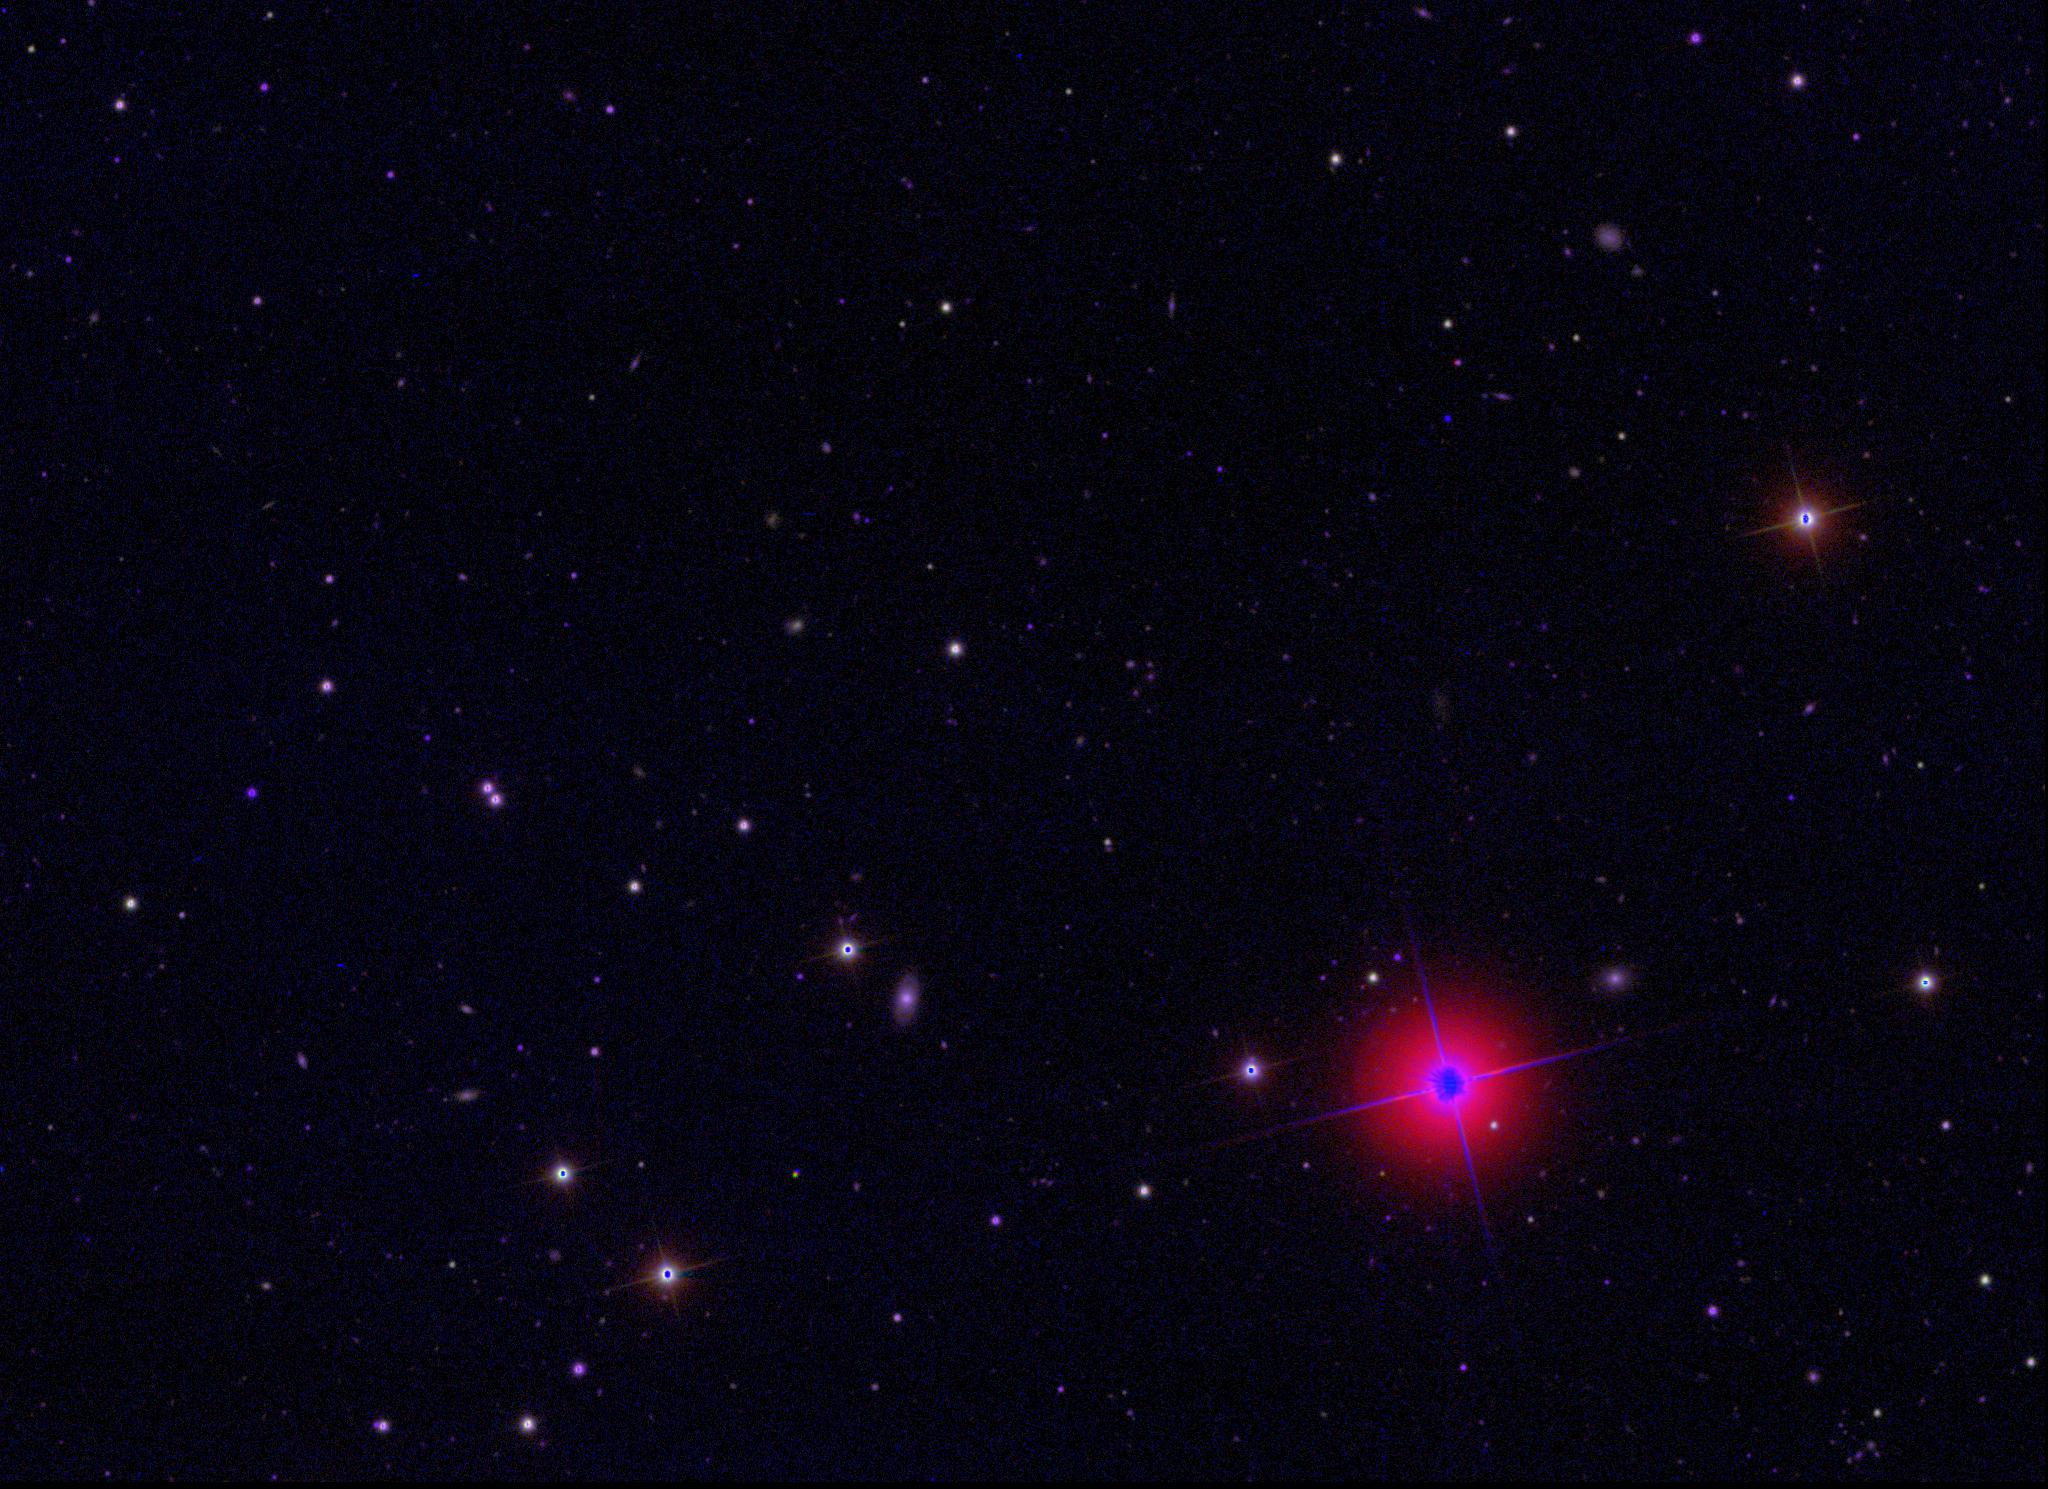L: (1444, 407, 1456, 422)
